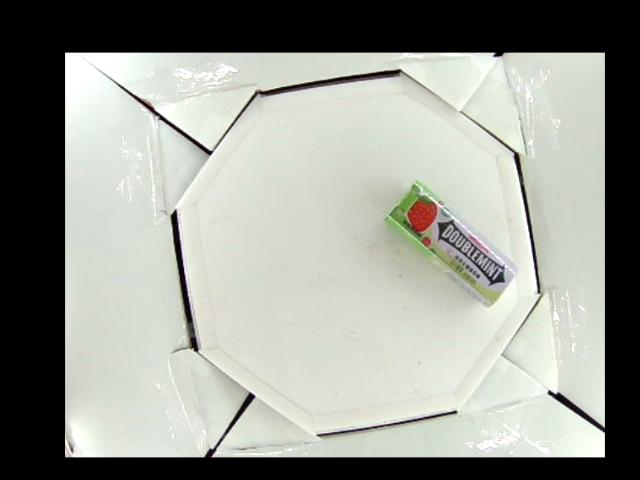Bottle: (386, 180, 520, 306)
